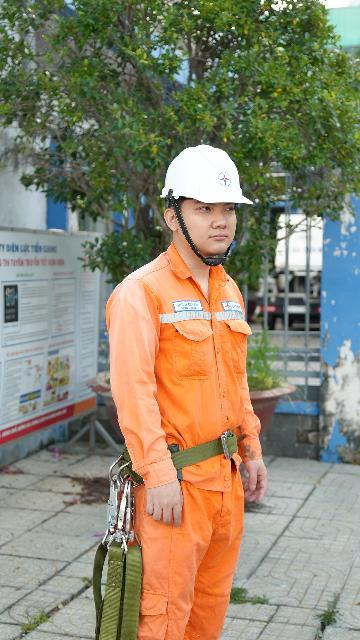harness: (131, 431, 273, 467)
helmet: (138, 136, 267, 220)
